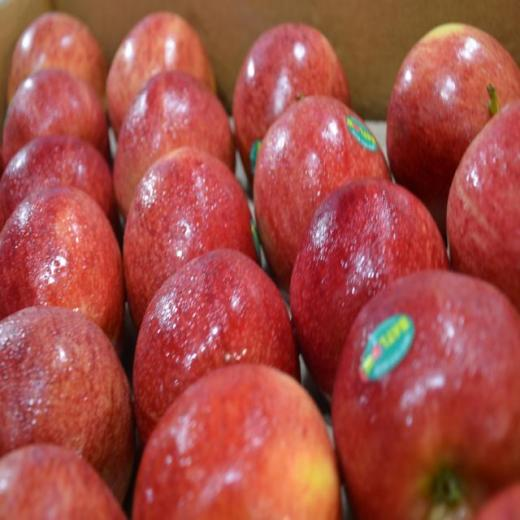Apple: (0, 10, 520, 520), (376, 10, 506, 224)
